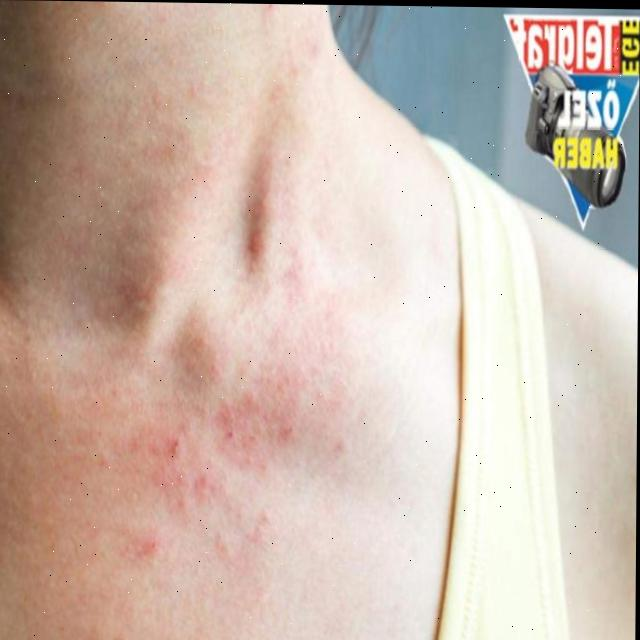Rosacea: (137, 266, 344, 595)
